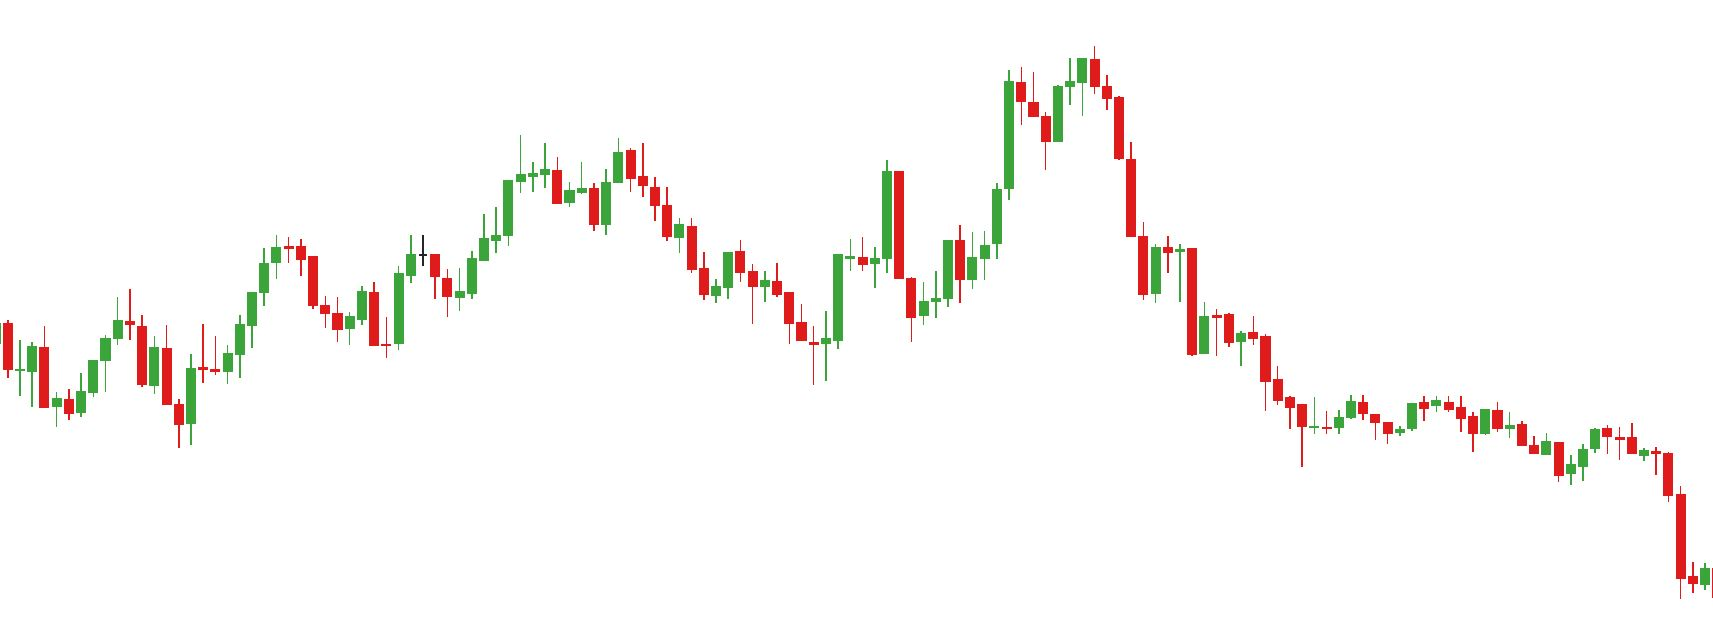buy: (51, 325, 198, 454)
sell: (1004, 43, 1103, 132), (550, 136, 650, 217)
